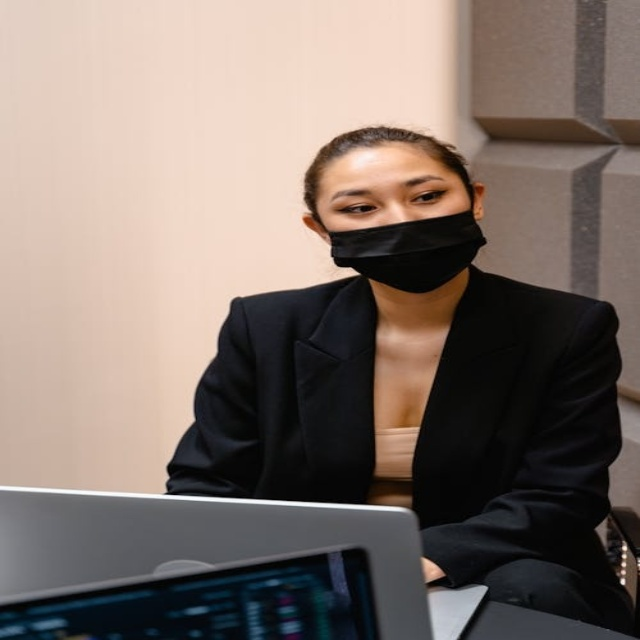Mascara: (325, 198, 487, 290)
Sin_gafas: (410, 189, 447, 204), (338, 203, 378, 214)
